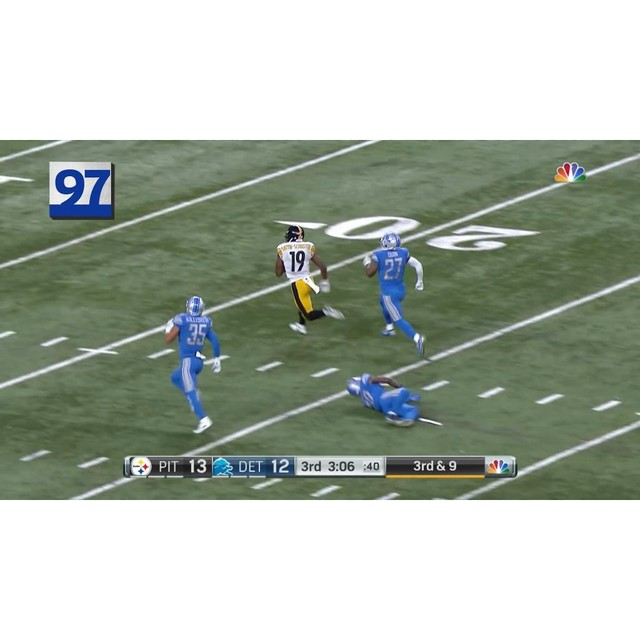american-football-player: (161, 296, 227, 430), (273, 224, 345, 335), (362, 234, 428, 354), (342, 371, 442, 426)
